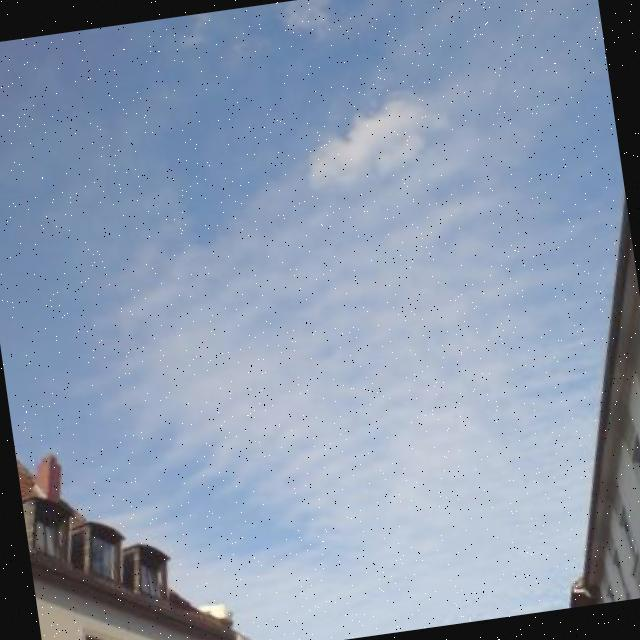Cc: (30, 75, 619, 537)
